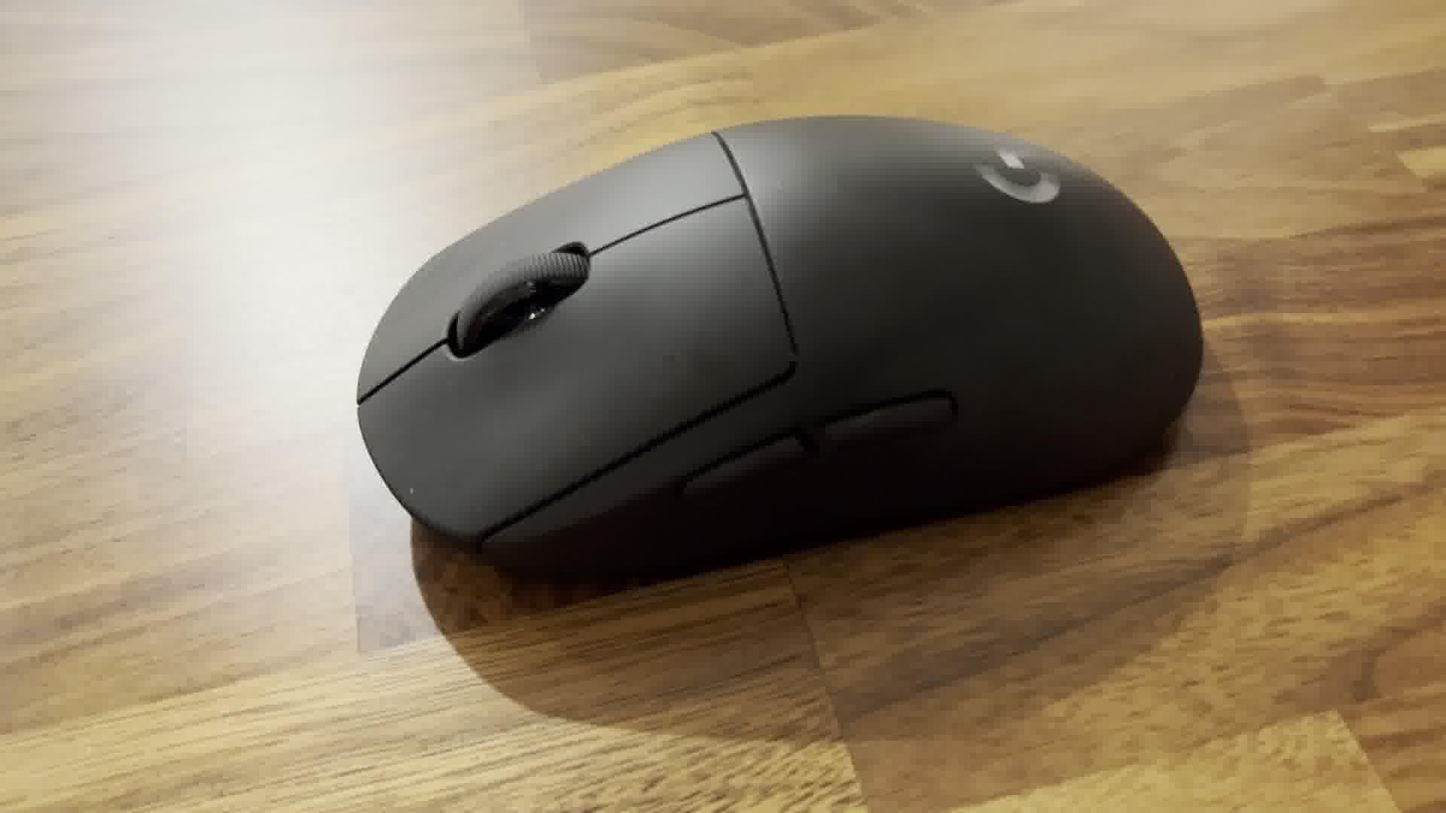logicool: (347, 108, 1208, 605)
